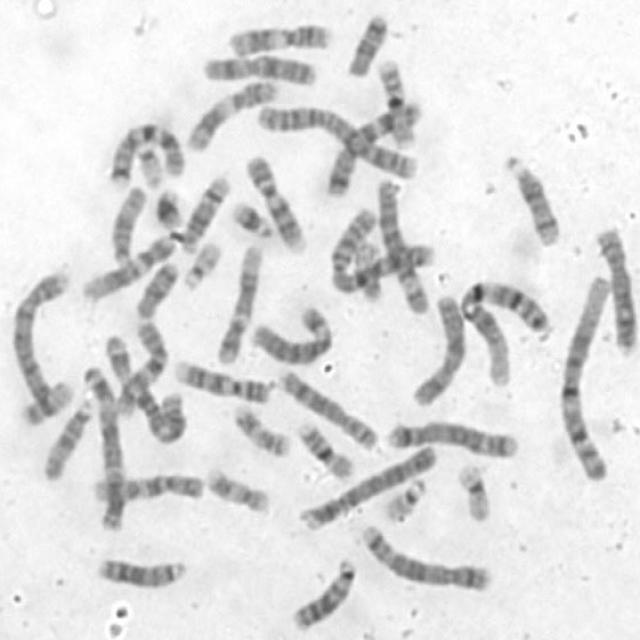A1: (556, 270, 614, 483), (454, 273, 553, 390)
A2: (252, 100, 422, 182), (323, 204, 435, 301)
A3: (99, 328, 188, 446), (80, 362, 128, 533)
B4: (297, 441, 439, 531), (7, 260, 74, 411)
B5: (357, 518, 495, 595), (382, 414, 520, 461)
C10: (113, 318, 168, 420), (89, 468, 205, 506)
C11: (180, 74, 280, 154), (226, 20, 335, 58)
C12: (77, 228, 177, 303), (213, 240, 265, 364)
C6: (370, 174, 431, 314), (246, 301, 336, 367)
C7: (320, 98, 426, 198), (106, 119, 187, 188)
C8: (275, 366, 379, 452), (591, 220, 638, 356)
C9: (243, 152, 308, 253), (170, 356, 271, 406)
D13: (286, 552, 358, 634), (93, 552, 187, 590)
D14: (498, 148, 564, 249), (178, 172, 232, 256)
D15: (40, 394, 92, 484), (106, 182, 148, 266)
E16: (292, 416, 356, 482), (374, 58, 415, 149)
E17: (201, 461, 274, 517), (228, 399, 292, 458)
E18: (343, 10, 389, 80), (131, 256, 180, 321)
F19: (453, 457, 494, 524), (132, 137, 163, 189)
F20: (15, 374, 76, 428), (352, 237, 384, 302)
G21: (227, 197, 276, 239), (151, 183, 186, 230)
G22: (380, 473, 429, 522), (179, 238, 223, 292)
X: (408, 292, 466, 408), (200, 50, 318, 89)
